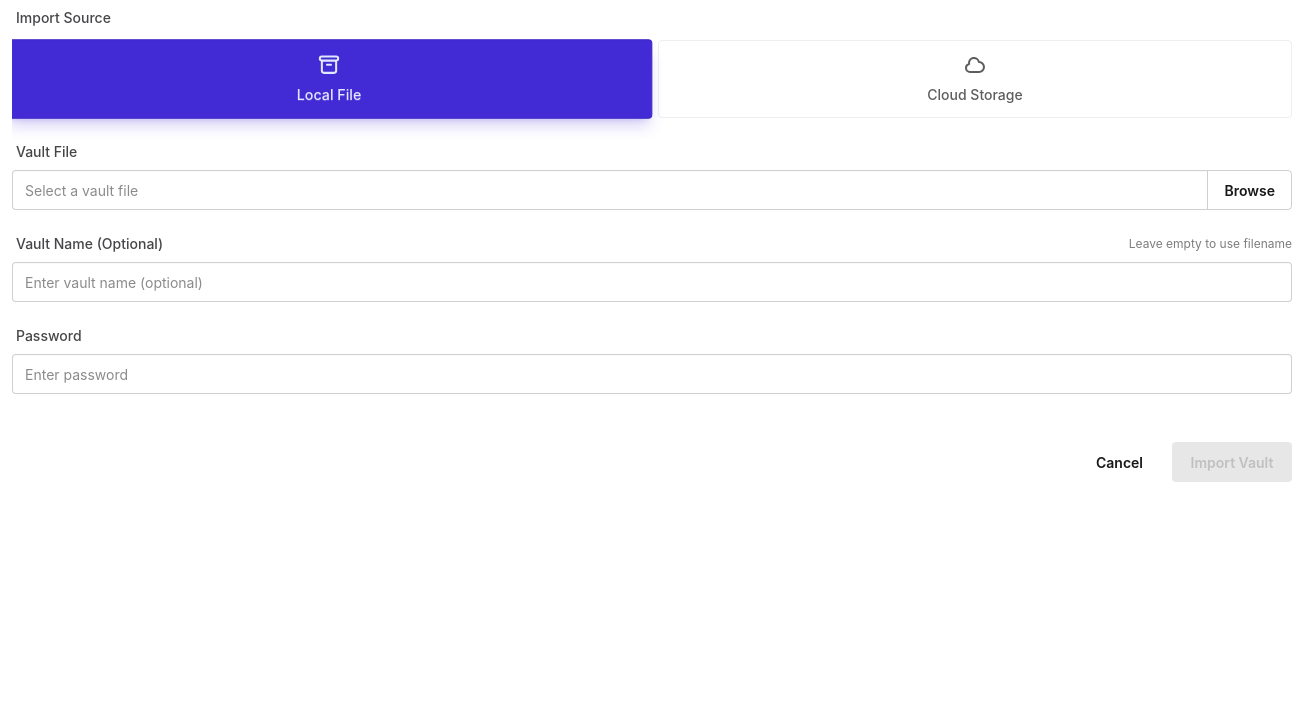
Scenario: ImportVaultForm with Cloud Storage › Cloud Vault Selection › should auto-fill vault name when cloud vault is selected
Click the button "Cloud Storage": (975, 79) [658,40,1292,118]
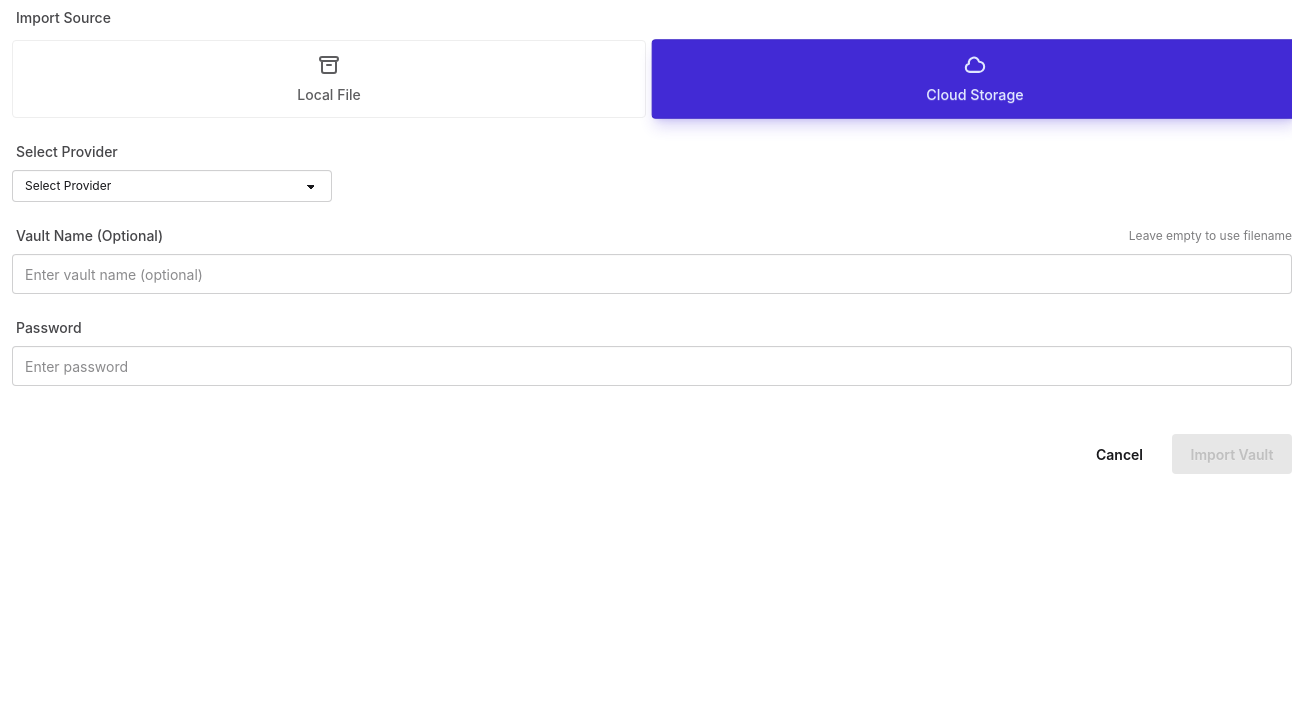
Select "google-drive (google_drive)" in the dropdown showing "Select Provider": (172, 186) [12,170,332,202]
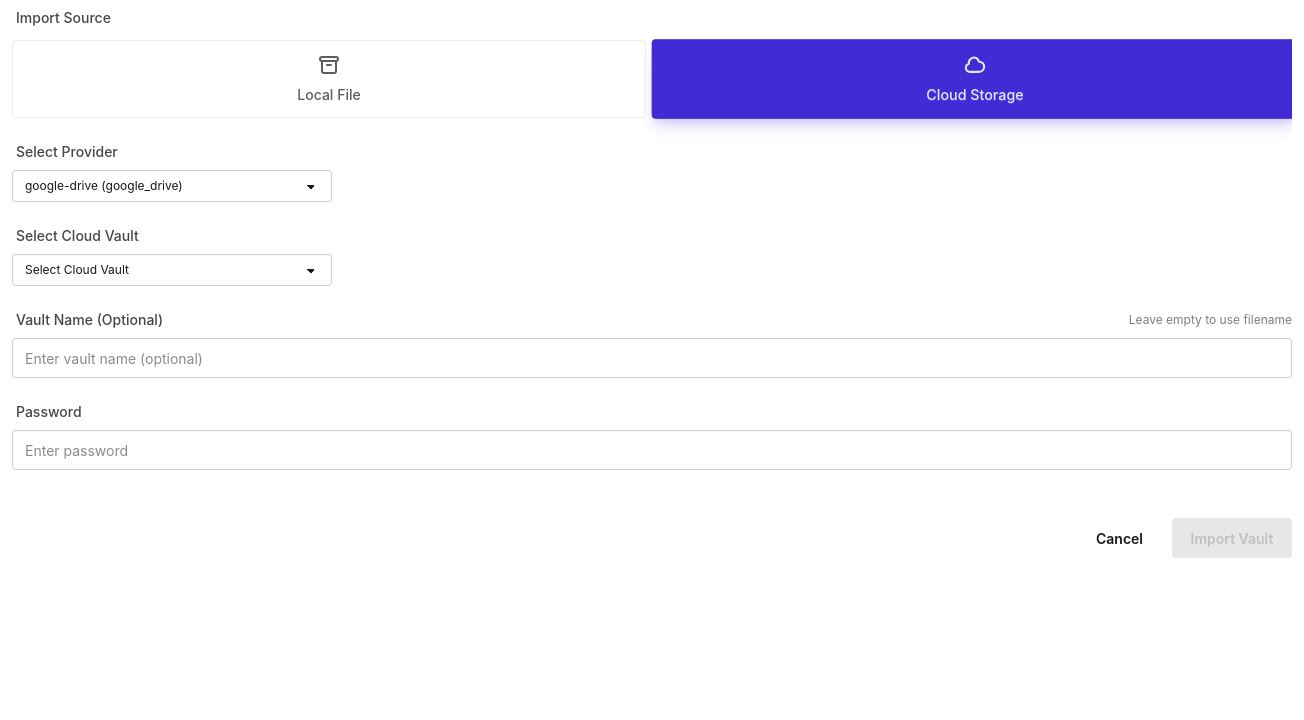
Select "Cloud Vault 1 (Last modified: 1/1/2023)" in the dropdown showing "Select Cloud Vault" below "Select Cloud Vault": (172, 270) [12,254,332,286]
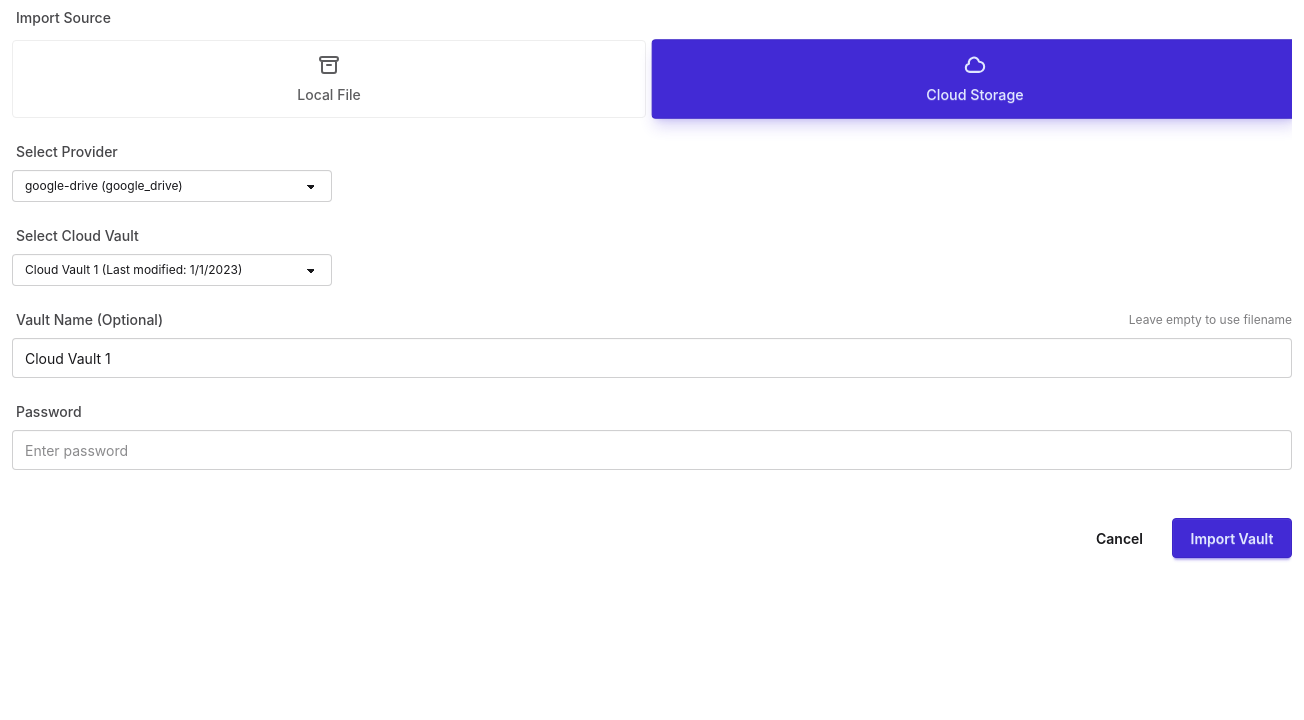
Result: the field with placeholder "Enter vault name (optional)" holds "Cloud Vault 1" at [12,338,1292,378]
